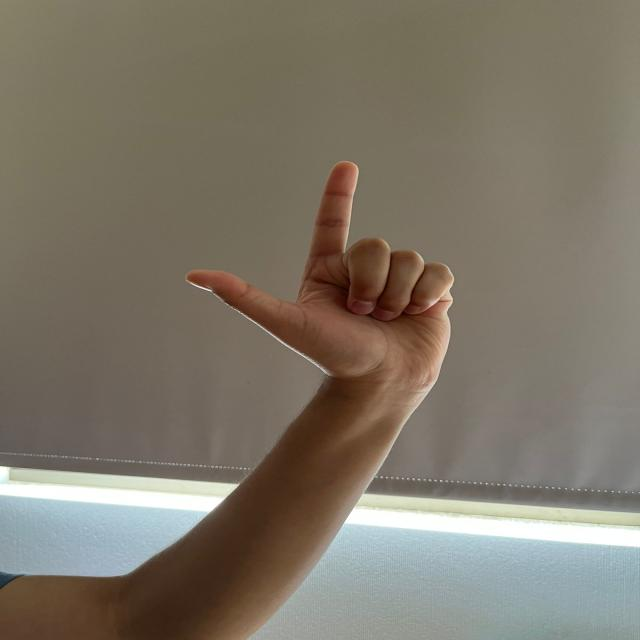L: (184, 153, 472, 389)
